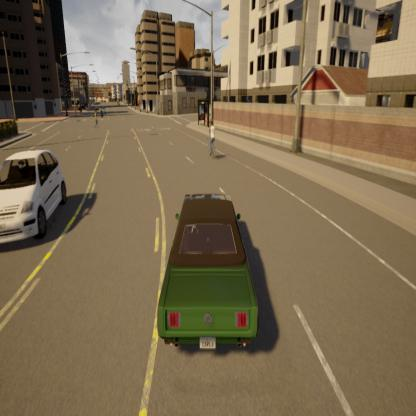Cars: (145, 180, 265, 357), (0, 146, 74, 245), (102, 104, 107, 116)
Pedestrian: (92, 107, 100, 130)
